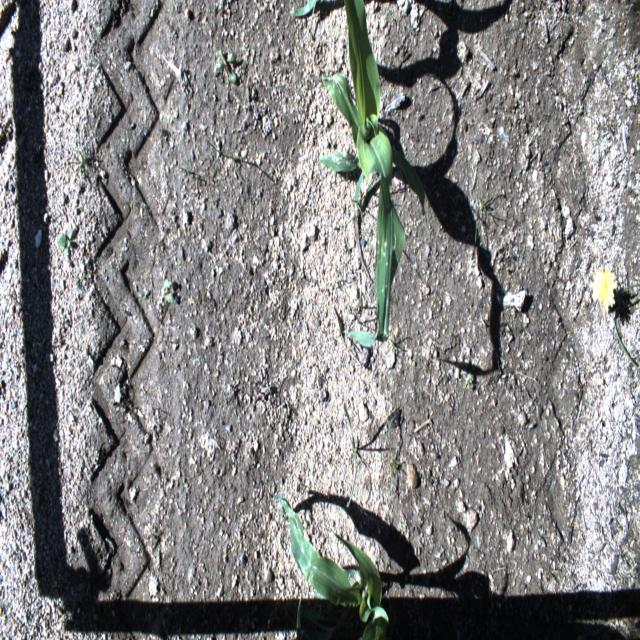crop: (294, 2, 406, 336), (280, 492, 392, 634)
weed: (590, 266, 616, 324), (212, 44, 238, 84), (58, 220, 69, 271)
